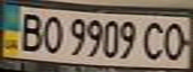0: (103, 17, 121, 60)
9: (118, 17, 142, 61), (63, 15, 87, 56), (84, 16, 106, 58)
B: (12, 10, 48, 52)
C: (139, 19, 172, 62)
O: (157, 19, 190, 62), (36, 12, 66, 55)
